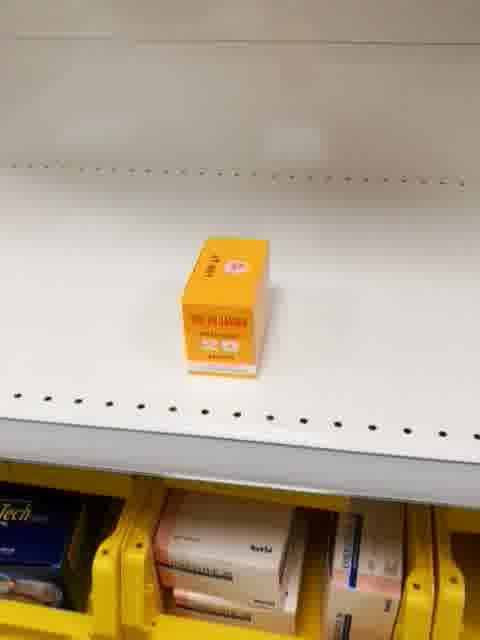jasminetea: (179, 235, 274, 380)
